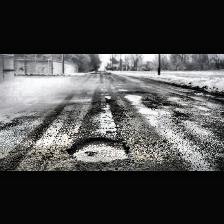pothole: (64, 136, 132, 162)
